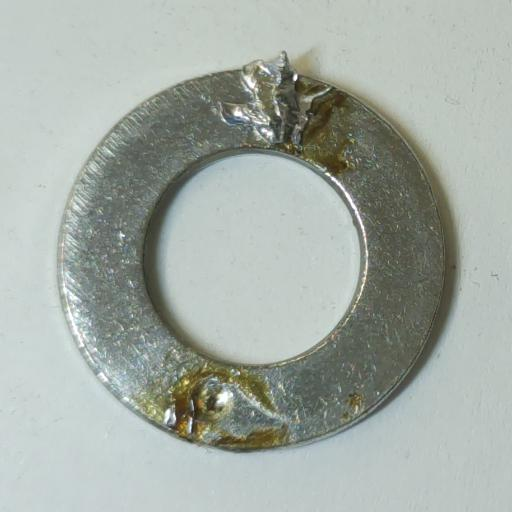excess_material: (220, 49, 333, 151), (164, 376, 233, 434)
